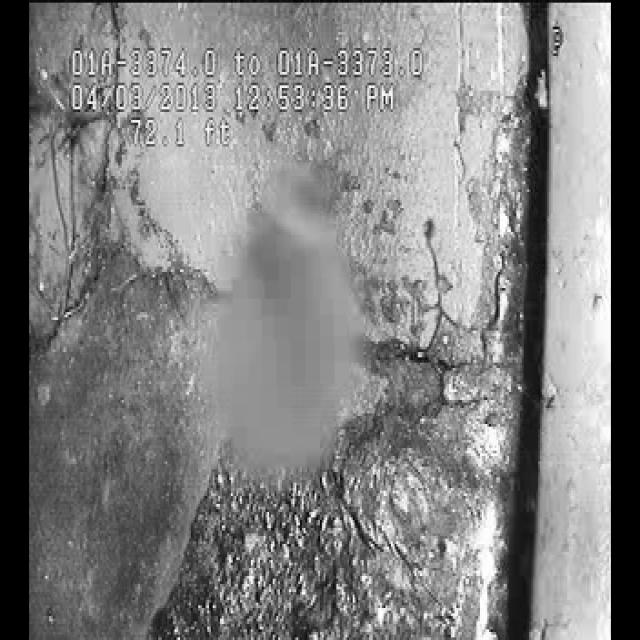Fracture: (46, 174, 218, 386)
